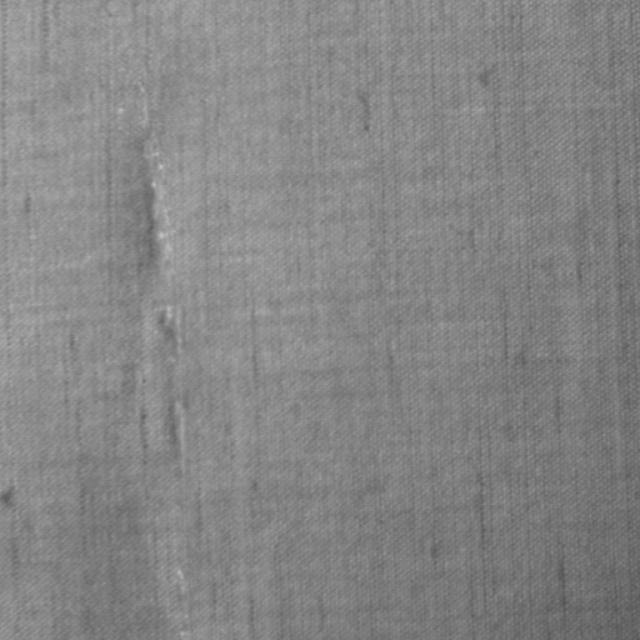thread error: (132, 75, 176, 279), (149, 300, 187, 478)
